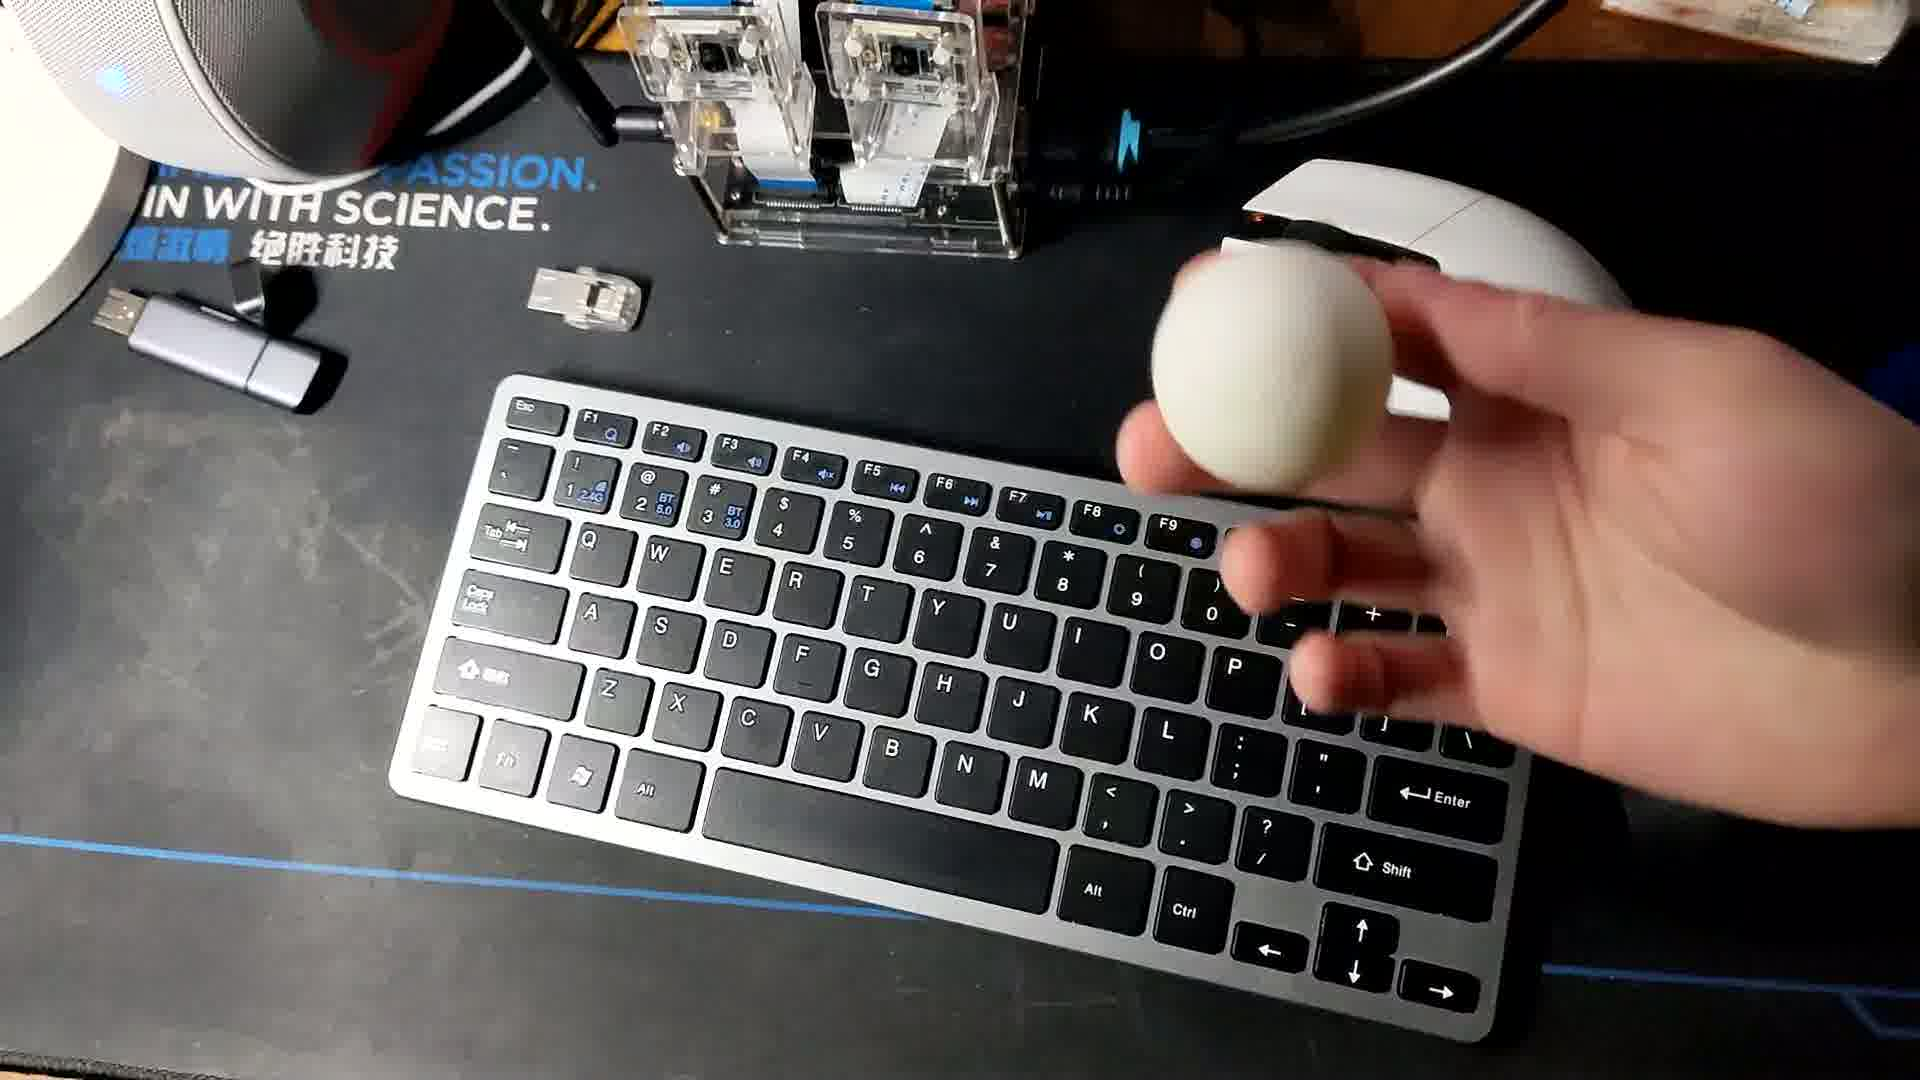Ball: (1155, 241, 1385, 489)
